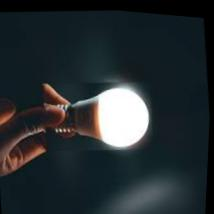Bulb: (37, 67, 156, 155)
